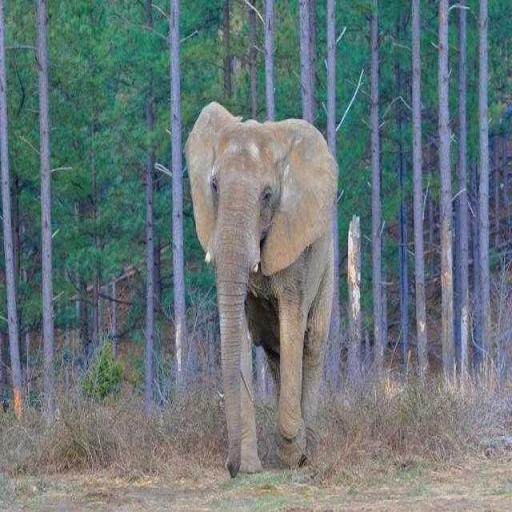Elephant: (182, 100, 340, 478)
